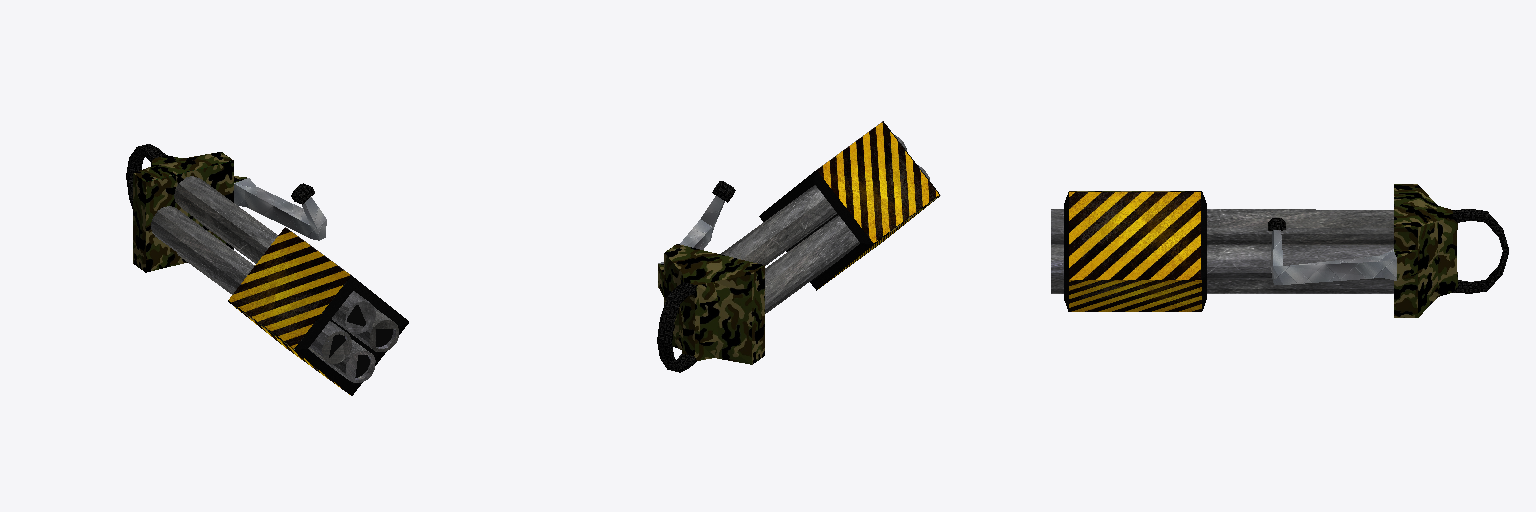
3 renders of one model, left to right at view 1: azimuth 30°, elevation 25°; view 2: azimuth 150°, elevation 25°; view 3: azimuth 270°, elevation 25°, orthographic.
Visible parts, largest first — view 1: Cylinder.001, Cylinder.000_Cylinder.004, Cube; view 2: Cube, Cylinder.000_Cylinder.004, Cylinder.001; view 3: Cylinder.000_Cylinder.004, Cylinder.001, Cube.
Part boxes in pixels (bbox=[...]): Cylinder.001: bbox=[151, 176, 398, 382]; Cylinder.000_Cylinder.004: bbox=[228, 227, 408, 395]; Cube: bbox=[126, 144, 326, 272]; Cube: bbox=[657, 181, 764, 372]; Cylinder.000_Cylinder.004: bbox=[759, 121, 940, 290]; Cylinder.001: bbox=[686, 135, 929, 313]; Cylinder.000_Cylinder.004: bbox=[1064, 191, 1206, 311]; Cylinder.001: bbox=[1051, 209, 1393, 293]; Cube: bbox=[1268, 184, 1508, 317].
Bounding box in the file's own units: 1.75 × 1.51 × 5.15.
Materials: 3 (1 with a texture image).